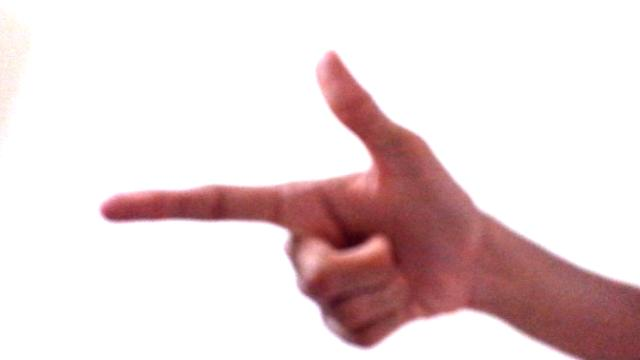Right: (100, 53, 471, 351)
